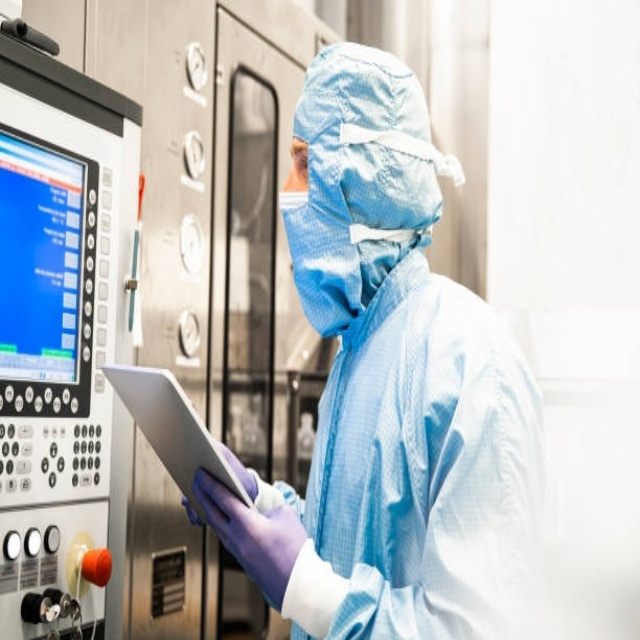Guantes: (187, 443, 310, 623)
Mascara: (282, 187, 363, 337)
Sin_gafas: (290, 136, 313, 186)
